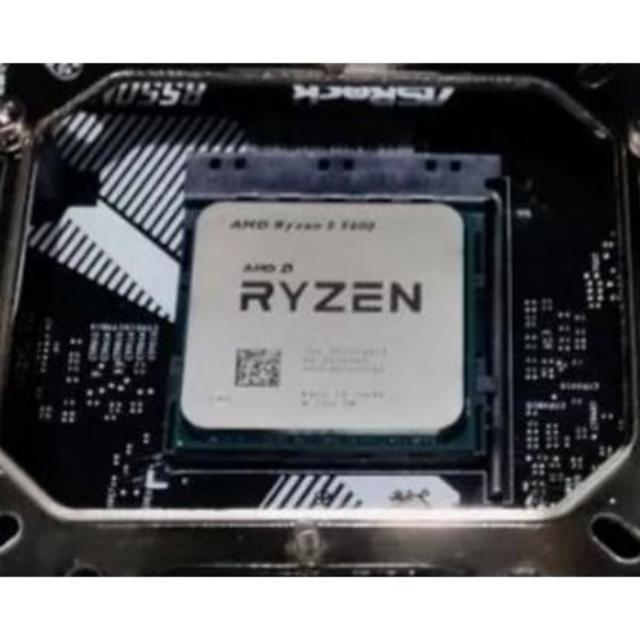CPU: (184, 191, 470, 431)
